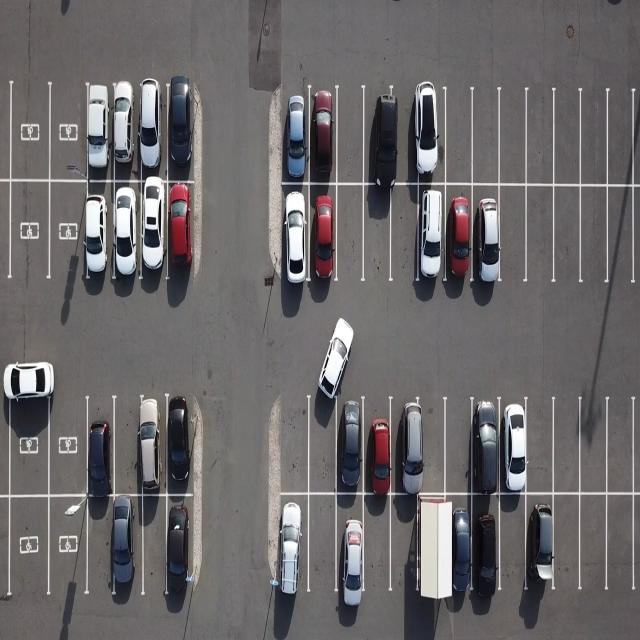space-empty: (4, 380, 48, 497), (48, 388, 92, 496), (5, 496, 48, 602), (48, 179, 88, 285), (7, 180, 47, 286), (8, 78, 48, 182), (307, 494, 344, 602), (308, 394, 346, 496), (492, 494, 529, 598), (572, 494, 610, 594), (112, 396, 150, 495), (50, 82, 87, 182), (358, 496, 394, 598), (548, 494, 584, 594), (604, 494, 640, 594), (574, 398, 610, 498), (606, 183, 640, 288), (524, 397, 560, 496), (605, 395, 640, 495), (276, 396, 311, 496), (82, 496, 116, 597), (550, 396, 585, 494), (386, 494, 421, 592), (335, 84, 369, 184), (440, 399, 474, 496), (577, 184, 609, 286), (551, 184, 583, 285), (526, 184, 558, 284), (496, 184, 528, 284), (416, 402, 449, 497), (390, 185, 422, 282), (551, 91, 584, 185), (417, 497, 447, 600), (526, 92, 558, 188), (607, 91, 639, 187), (140, 496, 170, 598), (441, 92, 473, 187), (576, 91, 608, 185), (52, 500, 84, 594), (360, 182, 391, 278), (336, 184, 366, 282), (471, 90, 502, 184), (432, 497, 459, 603), (496, 91, 526, 186), (393, 86, 420, 183)
space-occupied: (275, 493, 313, 601), (466, 495, 504, 599), (438, 497, 474, 604), (165, 495, 202, 599), (523, 490, 561, 590), (334, 490, 369, 598), (361, 83, 398, 185), (112, 496, 148, 599), (166, 181, 202, 281), (391, 400, 428, 497), (494, 401, 531, 496), (79, 179, 112, 285), (82, 397, 116, 499), (469, 398, 505, 494), (359, 398, 395, 493), (308, 86, 342, 186), (441, 183, 474, 286), (333, 398, 368, 494), (137, 179, 169, 284), (166, 397, 200, 495), (112, 180, 144, 284), (413, 89, 447, 186), (137, 397, 170, 495), (472, 184, 504, 285), (309, 182, 341, 283), (416, 184, 448, 284), (282, 184, 312, 286), (136, 83, 167, 181), (167, 84, 197, 182), (82, 84, 111, 182), (113, 85, 141, 181), (284, 87, 311, 186)
